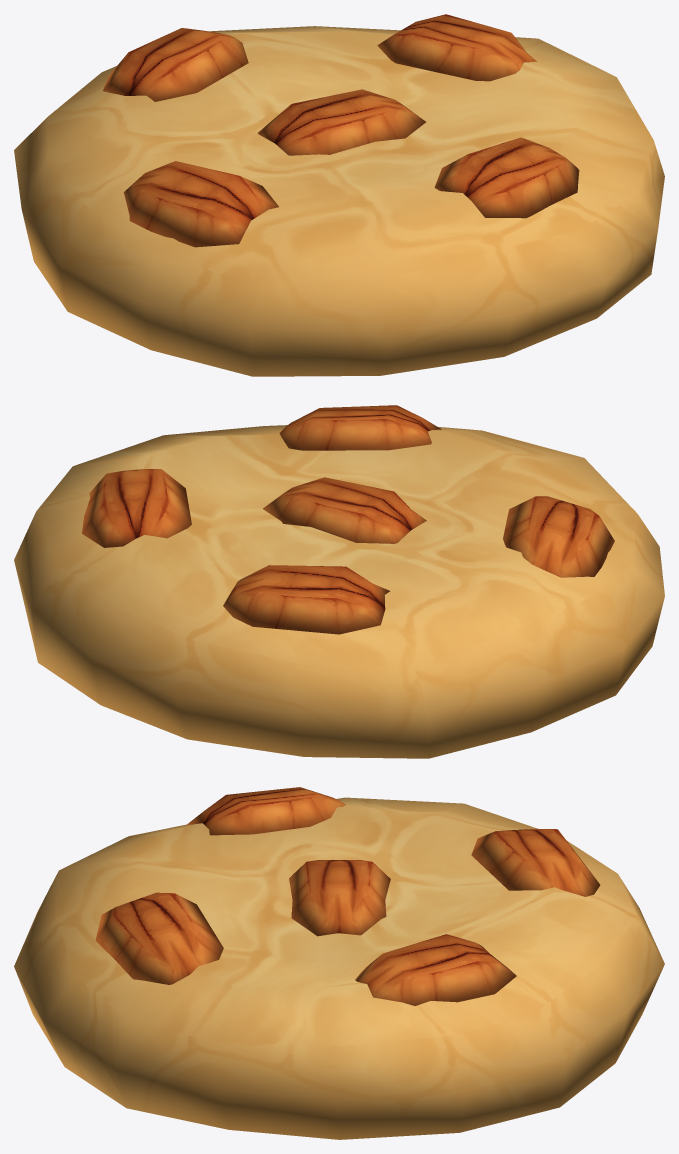
File: cookiePecan.gltf
3 views of the same model, one above another, from view 1: azimuth 30°, elevation 25°; view 2: azimuth 150°, elevation 25°; view 3: azimuth 270°, elevation 25° (orthographic).
Visible parts, largest first — view 1: Cylinder; view 2: Cylinder; view 3: Cylinder.
Boxes of the visible parts, bbox=[...] form: Cylinder: bbox=[14, 14, 664, 376]; Cylinder: bbox=[14, 405, 664, 758]; Cylinder: bbox=[14, 787, 664, 1139].
Bounding box in the file's own units: 1.42 × 0.336 × 1.42.
